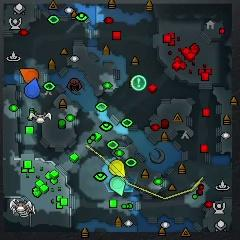Other: (131, 75, 146, 90)
p1: (25, 78, 41, 98)
p2: (110, 175, 125, 196)
p4: (109, 160, 126, 178)
p5: (20, 68, 39, 83)
